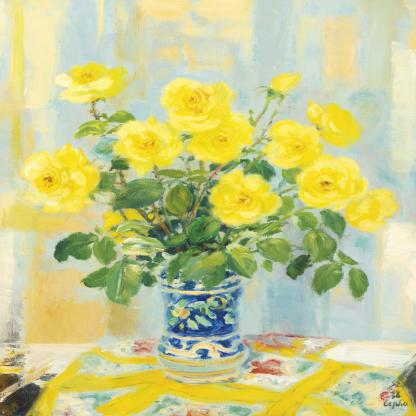vase: (157, 257, 254, 376)
